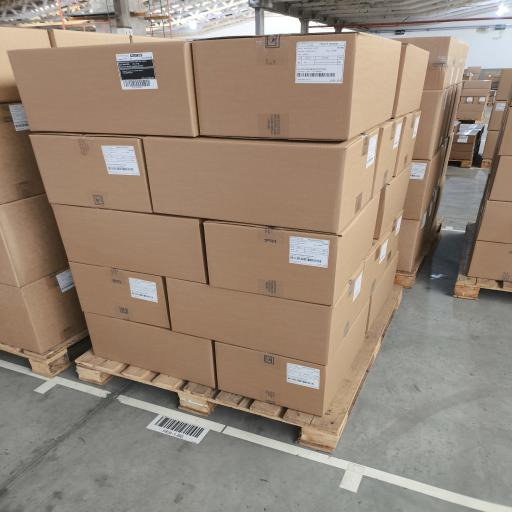pallet: (76, 286, 401, 452), (454, 222, 511, 299), (0, 330, 91, 378), (395, 218, 443, 288), (456, 114, 485, 124), (450, 158, 472, 168), (481, 159, 491, 168)
